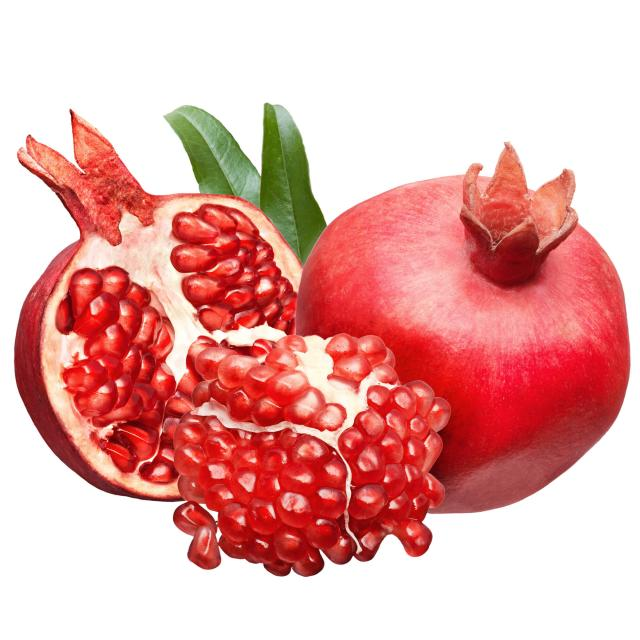apple: (294, 148, 632, 520)
